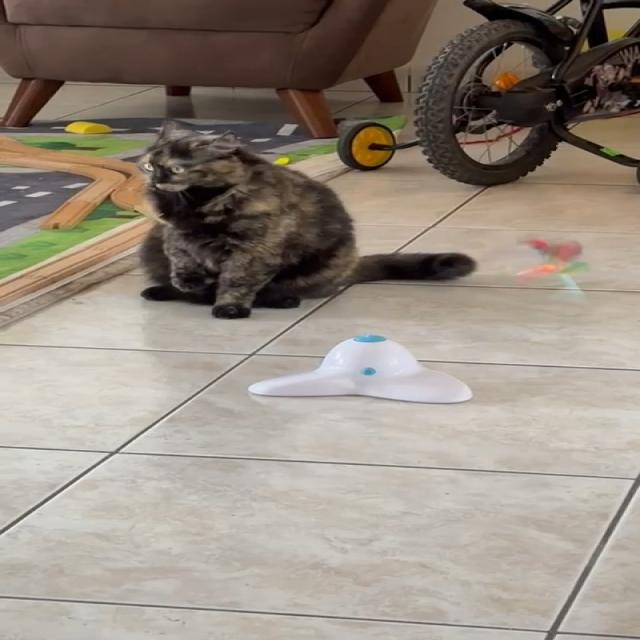authorized: (135, 118, 477, 319)
